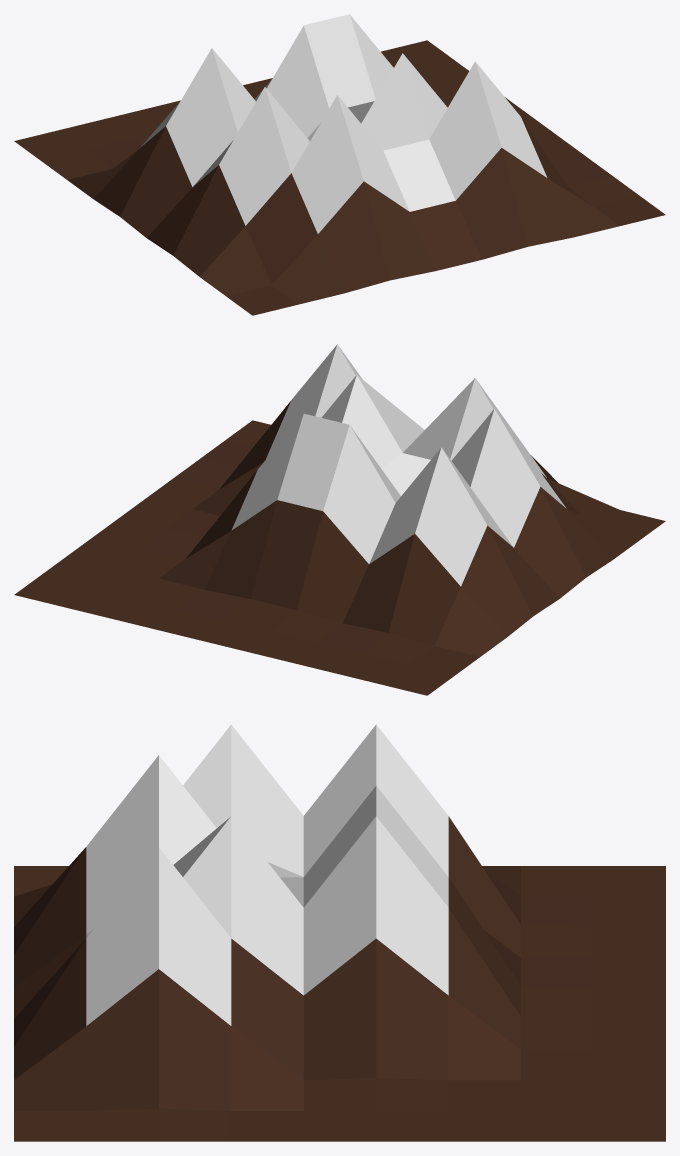
Rendered from MountIce2.fbx.
The picture shows the model from 3 angles, top to bottom: view 1: azimuth 30°, elevation 25°; view 2: azimuth 150°, elevation 25°; view 3: azimuth 270°, elevation 25°; orthographic projection. The views are drawn at different scales.
Visible parts, largest first — view 1: Plane; view 2: Plane; view 3: Plane.
Boxes of the visible parts, left/top/right/bottom form: Plane: left=14, top=14, right=665, bottom=315; Plane: left=14, top=344, right=665, bottom=695; Plane: left=14, top=724, right=665, bottom=1141.
Size of the model in its own units: 2127 by 730 by 2127.
Materials: 1 (1 with a texture image).
